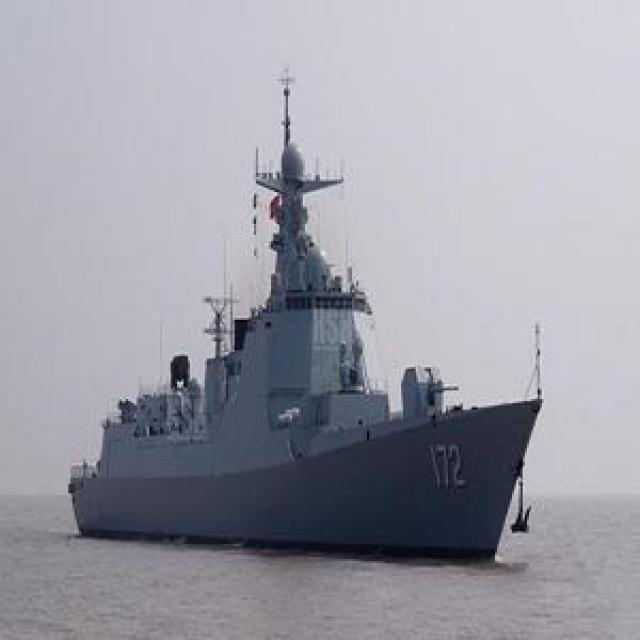navalvessels: (68, 72, 547, 569)
